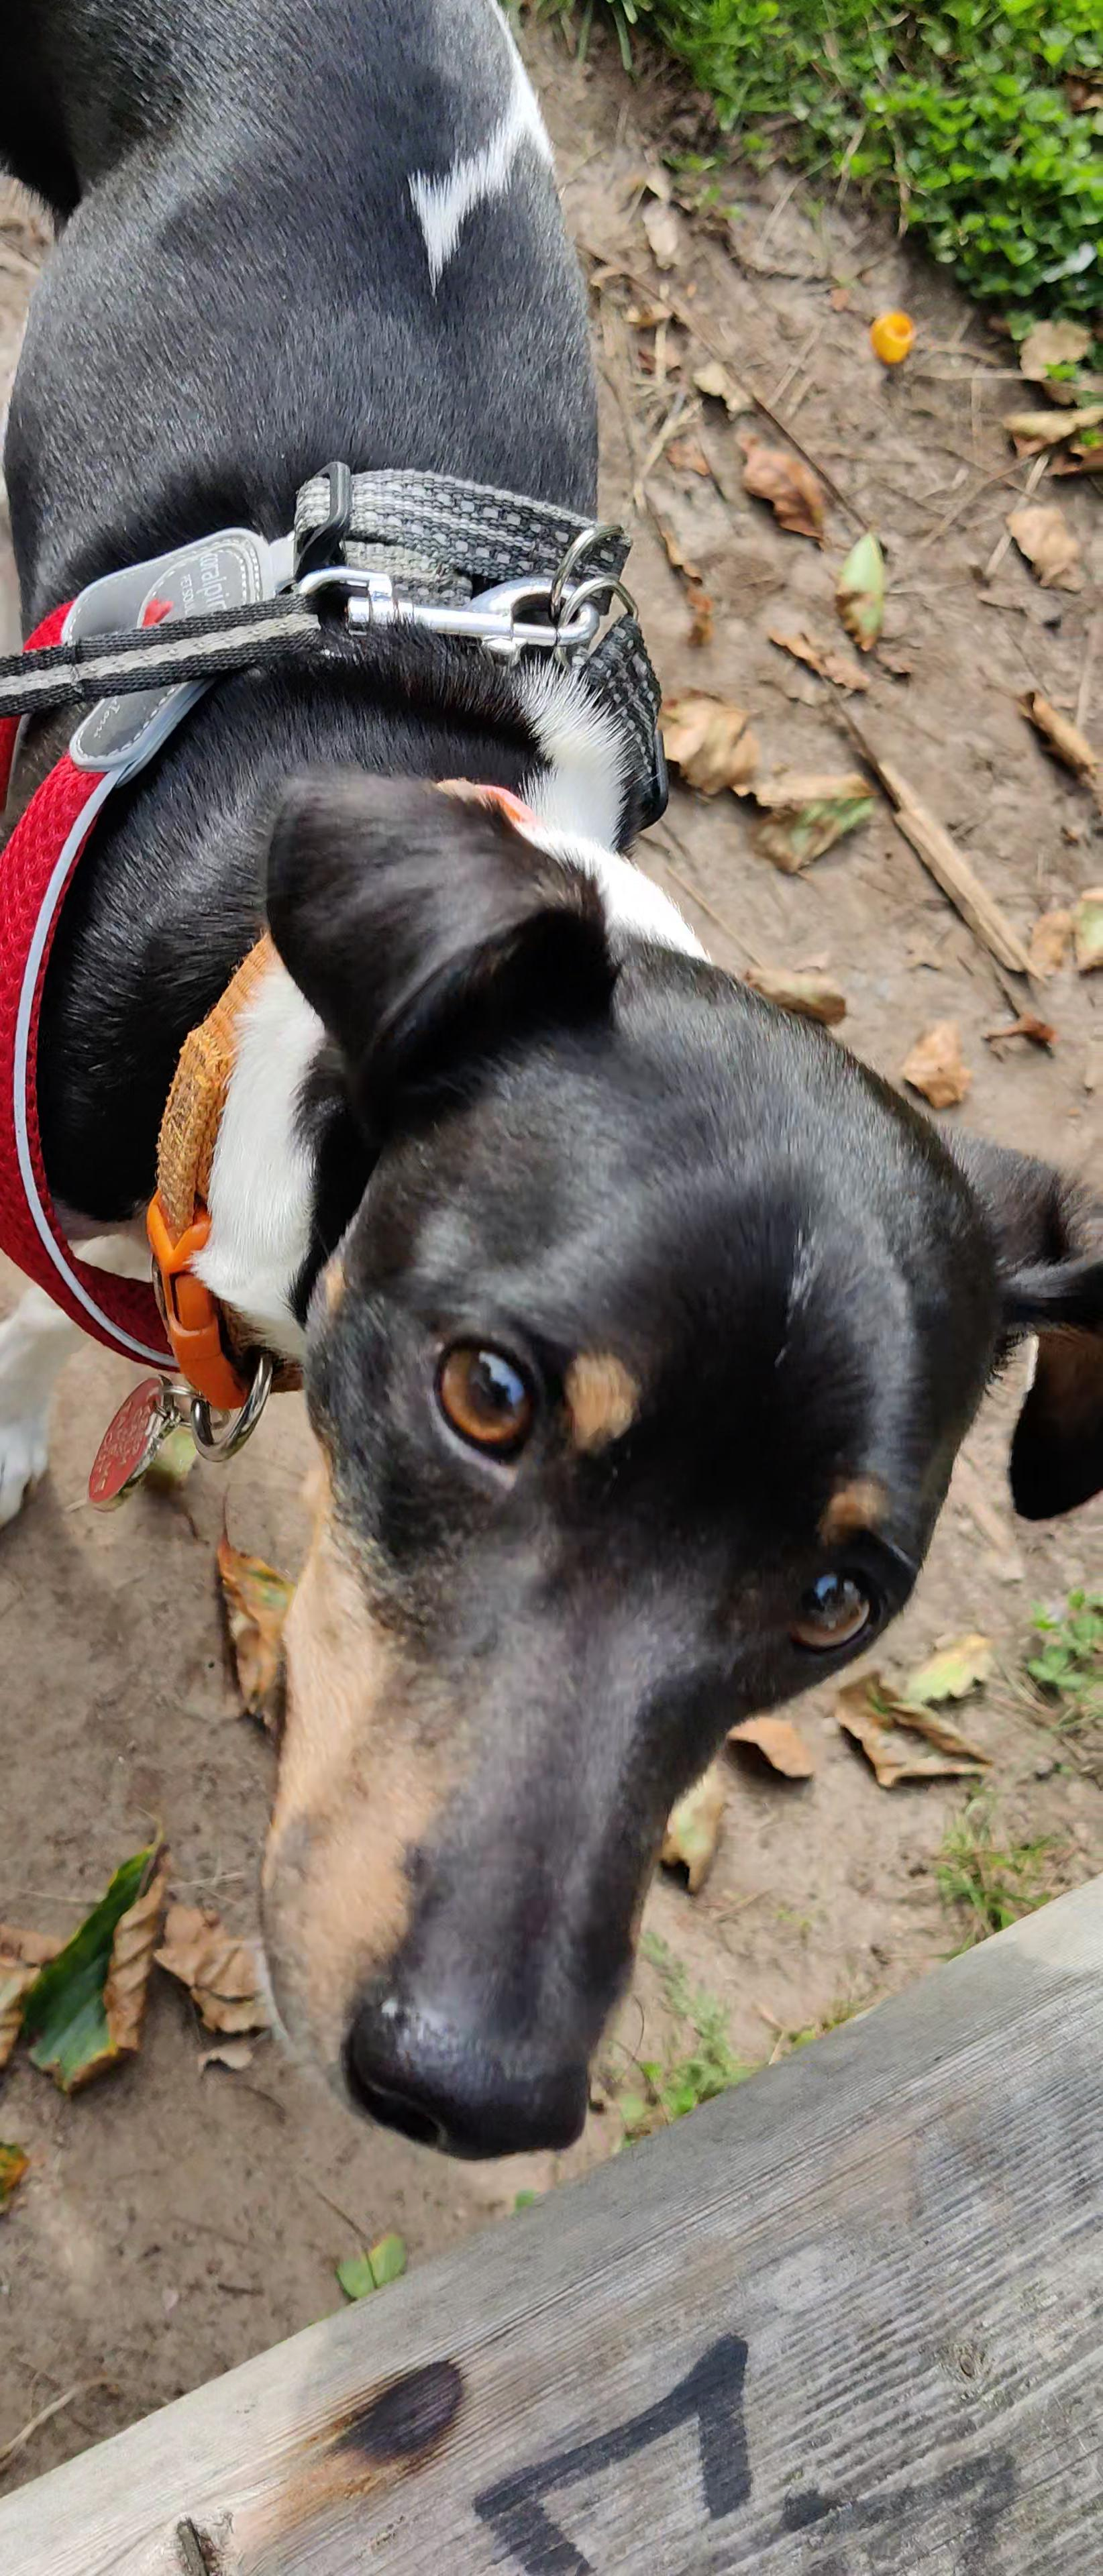Dog: (0, 0, 1103, 2167)
